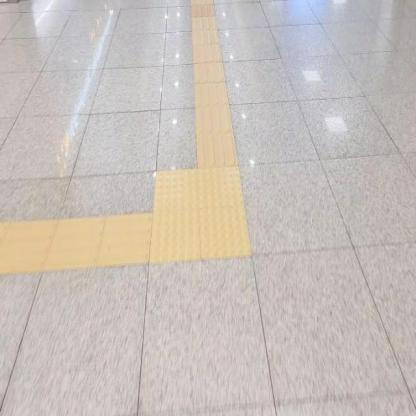podotacti: (125, 129, 270, 292), (0, 212, 150, 282), (189, 0, 240, 165)
